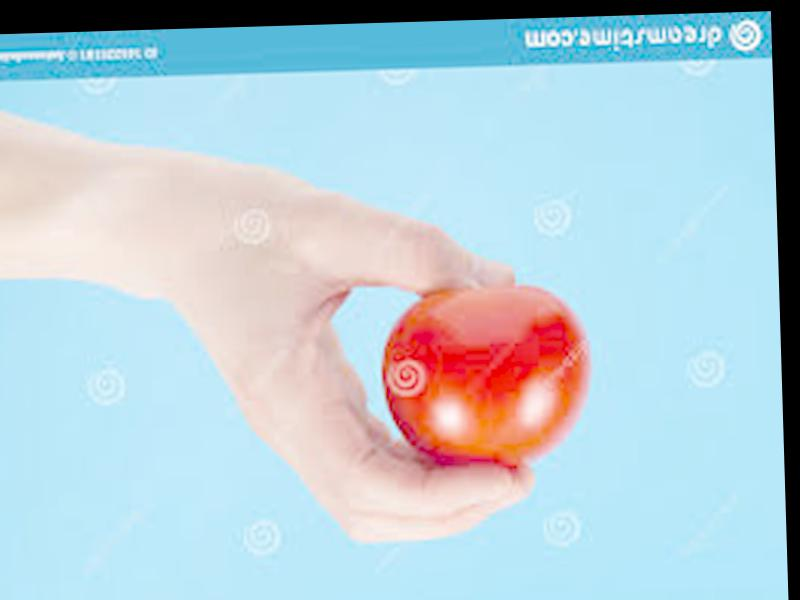Tomato: (381, 283, 593, 474)
